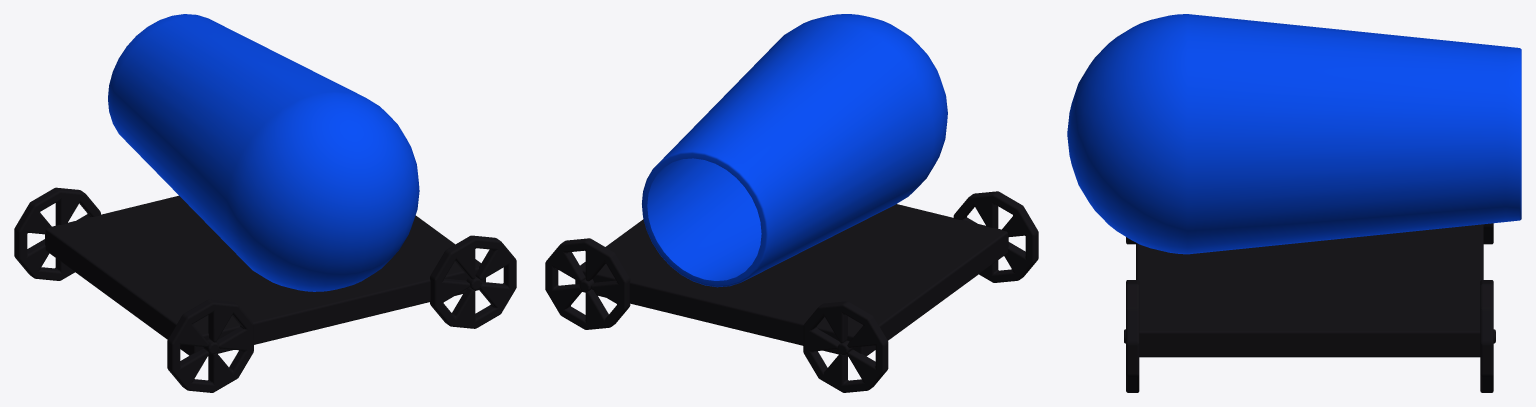
Rendered from Player.fbx.
The picture shows the model from 3 angles, left to right: view 1: azimuth 30°, elevation 25°; view 2: azimuth 150°, elevation 25°; view 3: azimuth 270°, elevation 25°; orthographic projection. The views are drawn at different scales.
Visible parts, largest first — view 1: Cube.001; view 2: Cube.001; view 3: Cube.001.
Boxes of the visible parts, <box> form: Cube.001: <box>14,14,516,392</box>; Cube.001: <box>545,14,1038,392</box>; Cube.001: <box>1067,14,1521,392</box>.
Bounding box in the file's own units: 797 × 548 × 785.
